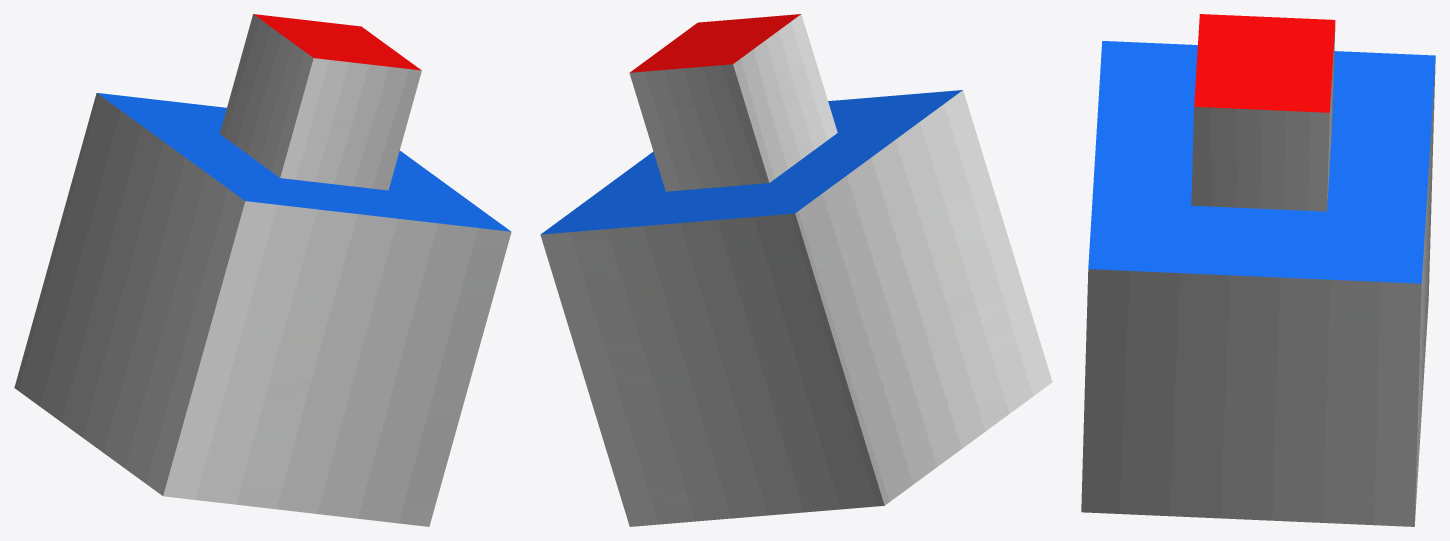
File: toon_button.fbx
3 views of the same model, side by side, from view 1: azimuth 30°, elevation 25°; view 2: azimuth 150°, elevation 25°; view 3: azimuth 270°, elevation 25° (orthographic). The views are drawn at different scales.
Parts seen in each view (by area): view 1: TheCase, TheBigButton; view 2: TheCase, TheBigButton; view 3: TheCase, TheBigButton.
Boxes of the visible parts, bbox=[...] form: TheCase: bbox=[14, 93, 511, 526]; TheBigButton: bbox=[220, 14, 421, 190]; TheCase: bbox=[540, 90, 1052, 526]; TheBigButton: bbox=[629, 14, 837, 191]; TheCase: bbox=[1081, 41, 1435, 526]; TheBigButton: bbox=[1191, 14, 1335, 211].
Size of the model in its own units: 98.21 by 120 by 80.5.
